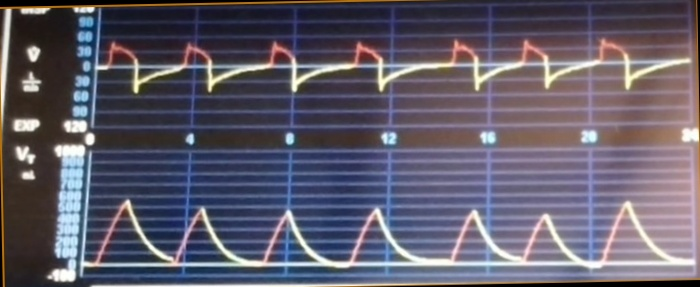Normal Flow: (99, 18, 692, 112)
Normal Volume: (88, 177, 694, 271)
